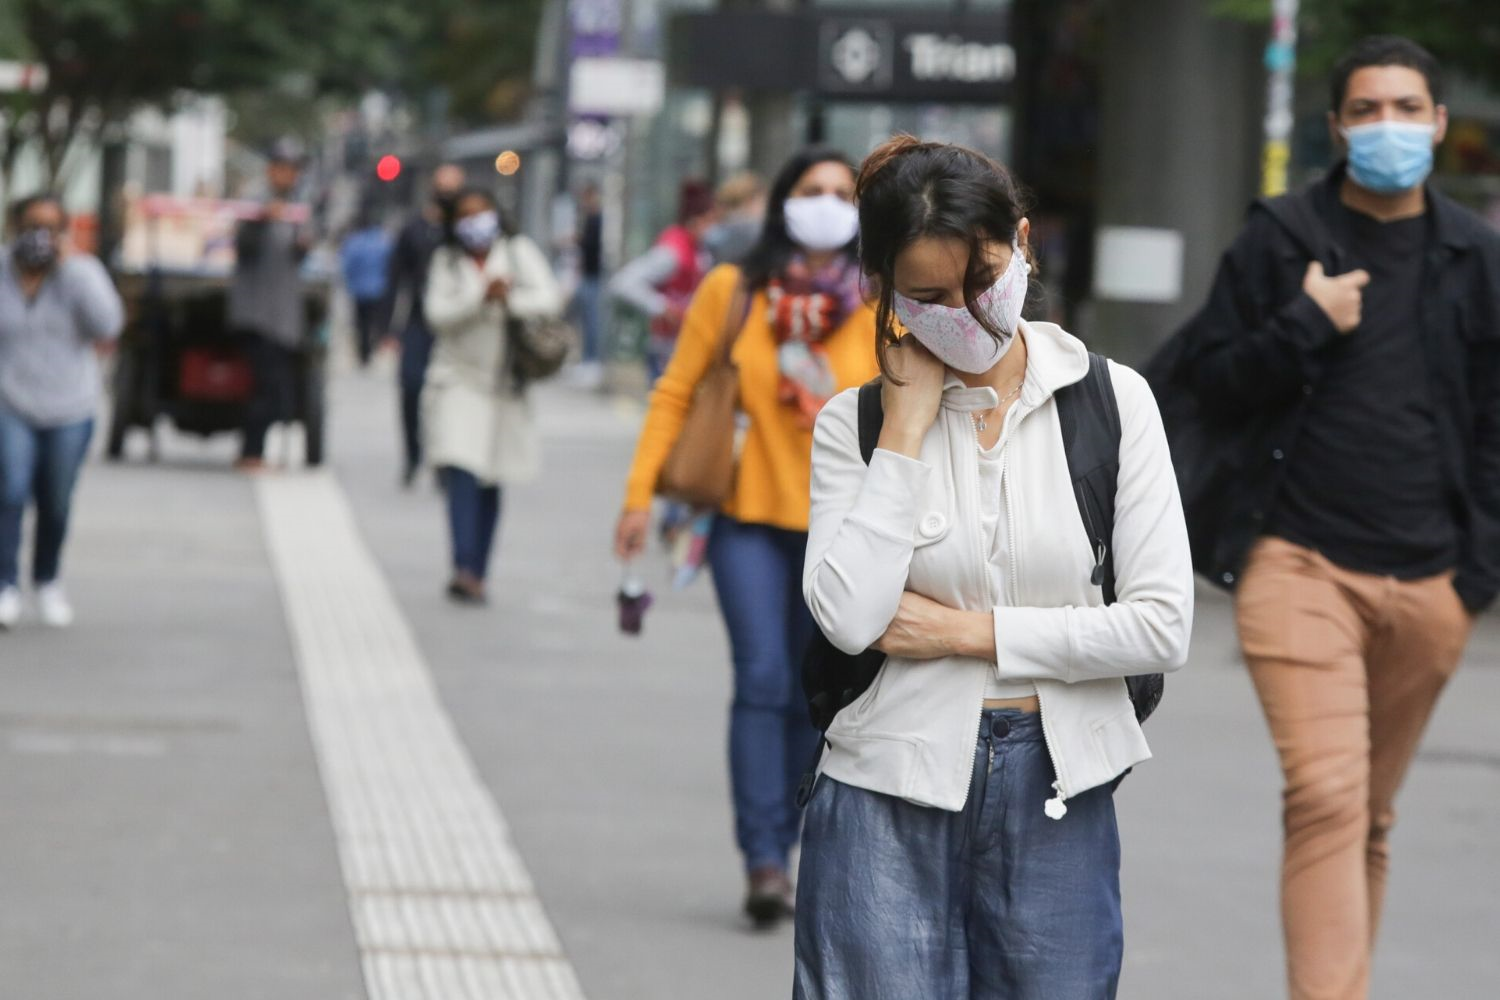with_mask: (863, 213, 1045, 393), (1324, 63, 1450, 190), (775, 160, 868, 261)
